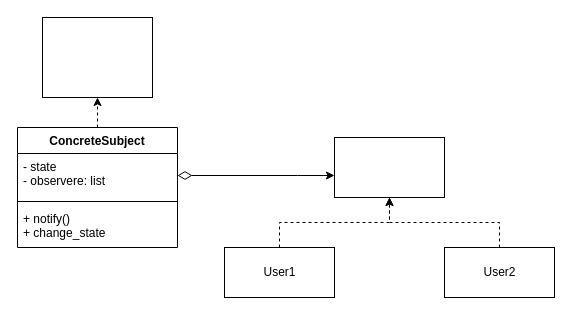
Some shapes in this 572 by 315 pixel diagram are drawn without their labels. The shapes that lost their labels are listed below. From the top down, each one's box as (x1, y1, x2, y2) in pixels, then its label:
(42, 16, 152, 98): <<Interface>> Subject + attach() + detach()
(334, 136, 444, 198): <<Interface>> Observer + update(Subject)
